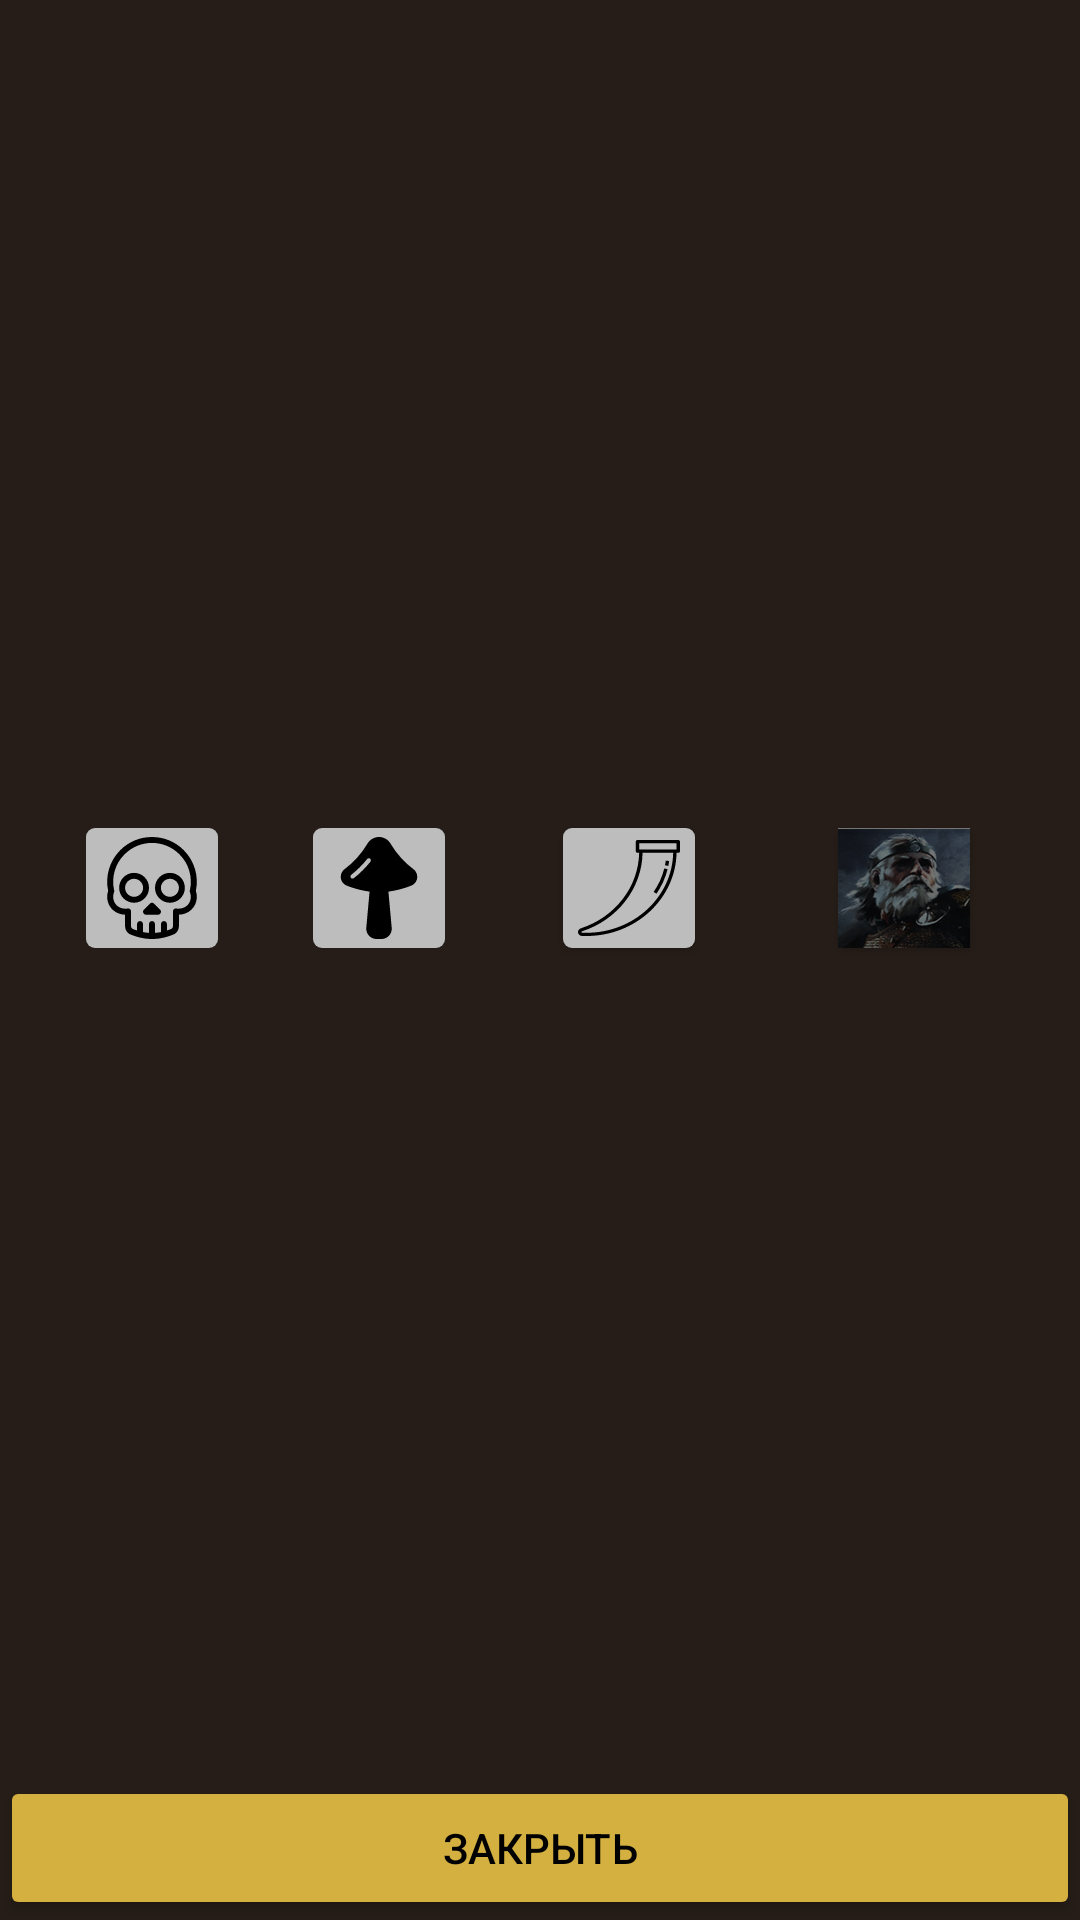

Icon bounding boxes for this 1080w x 1920h phone screenshot, format (x1, y1, x2, y2):
horn: (563, 828, 695, 948)
mushroom: (313, 828, 445, 948)
